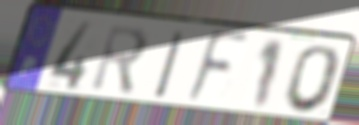1: (253, 38, 285, 112)
4: (46, 18, 92, 93)
F: (182, 28, 252, 109)
I: (152, 28, 188, 102)
O: (281, 44, 345, 116)
R: (88, 22, 151, 99)
